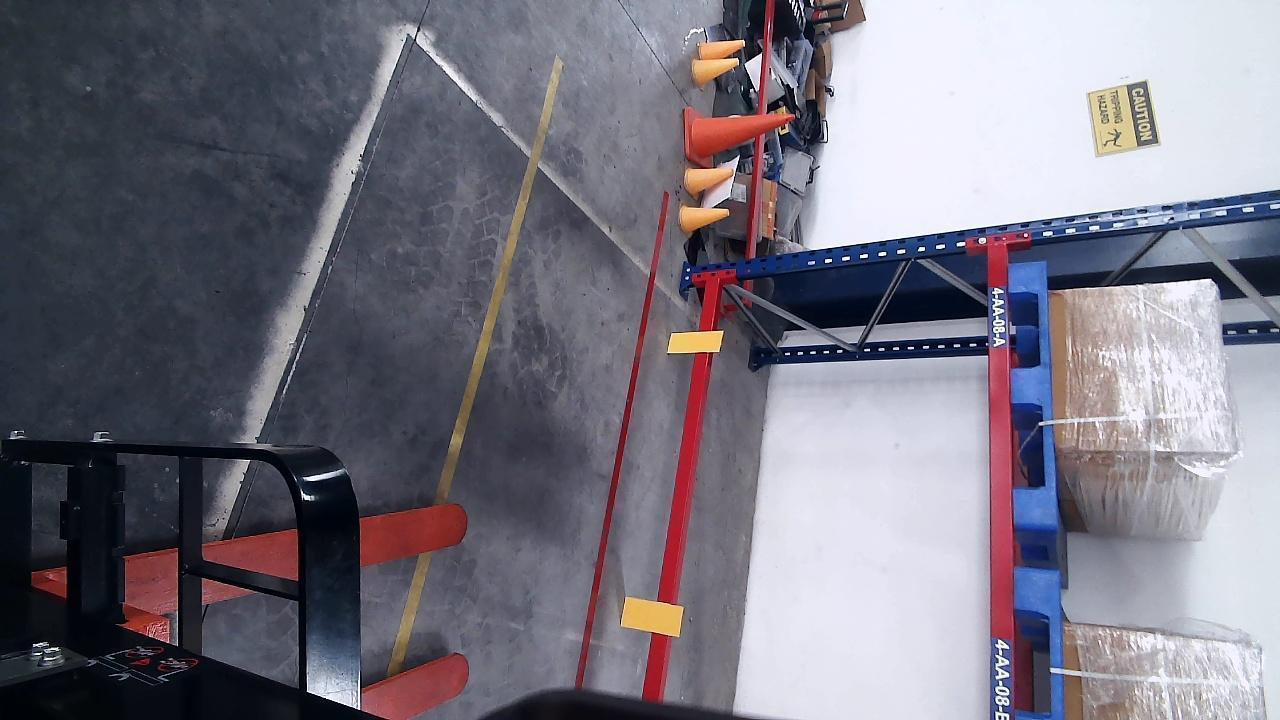red_line: (572, 192, 671, 689)
yellow_line: (434, 54, 567, 501)
